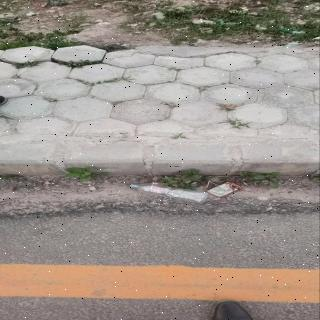Plastic-bottle: (127, 182, 215, 207)
